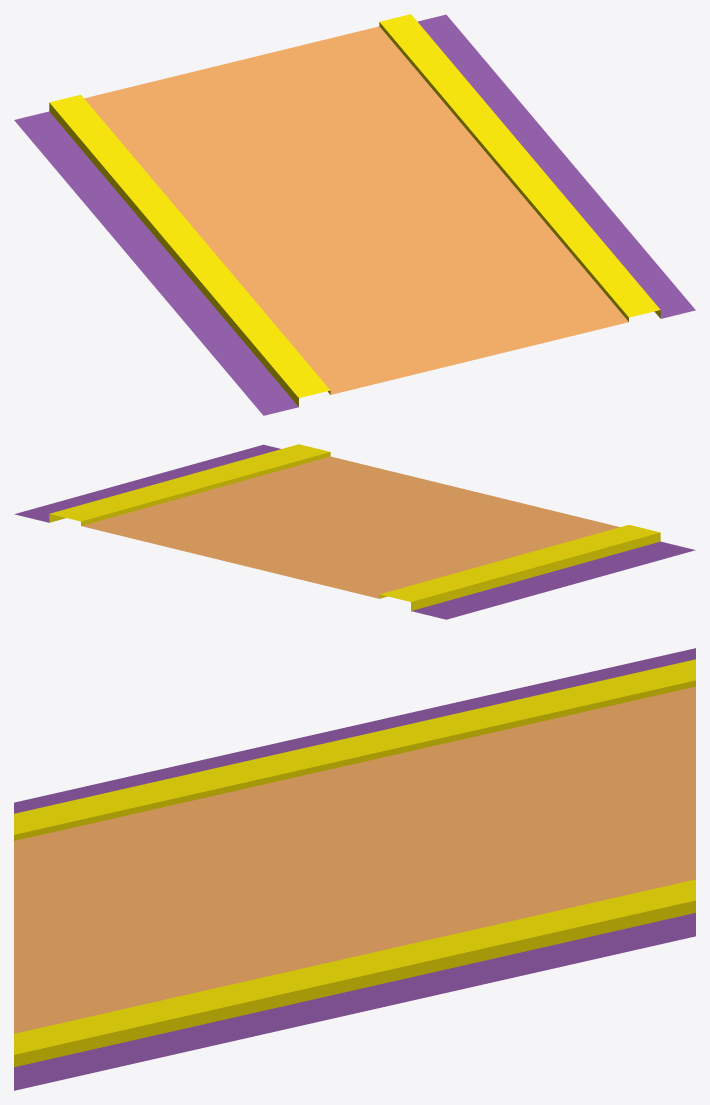
The model's file is roadRamp.glb.
3 renders of one model, top to bottom at view 1: azimuth 30°, elevation 25°; view 2: azimuth 150°, elevation 25°; view 3: azimuth 270°, elevation 25°, orthographic. The views are drawn at different scales.
Parts seen in each view (by area): view 1: roadRamp(Clone); view 2: roadRamp(Clone); view 3: roadRamp(Clone).
Part boxes in pixels (x1,y1,x2,y2): roadRamp(Clone): (14,14,695,415); roadRamp(Clone): (14,444,695,619); roadRamp(Clone): (14,648,695,1090).
Bounding box in the file's own units: 1 × 0.27 × 1.
